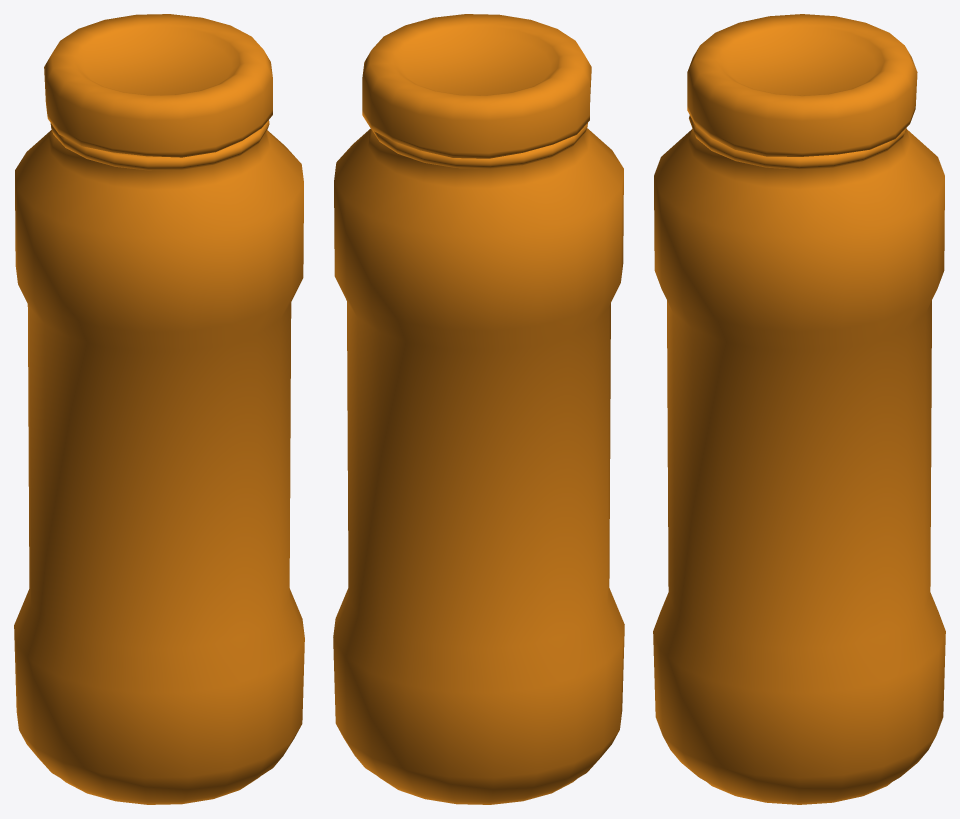
Rendered from marmeladenglas6_lowpoly.fbx.
The picture shows the model from 3 angles, left to right: view 1: azimuth 30°, elevation 25°; view 2: azimuth 150°, elevation 25°; view 3: azimuth 270°, elevation 25°; orthographic projection.
Parts seen in each view (by area): view 1: Cylinder.004; view 2: Cylinder.004; view 3: Cylinder.004.
Boxes of the visible parts, x1,y1,x2,y2 form: Cylinder.004: (14, 14, 304, 804); Cylinder.004: (333, 14, 624, 804); Cylinder.004: (653, 14, 945, 804).
Bounding box in the file's own units: 10.13 × 26.72 × 10.13.
